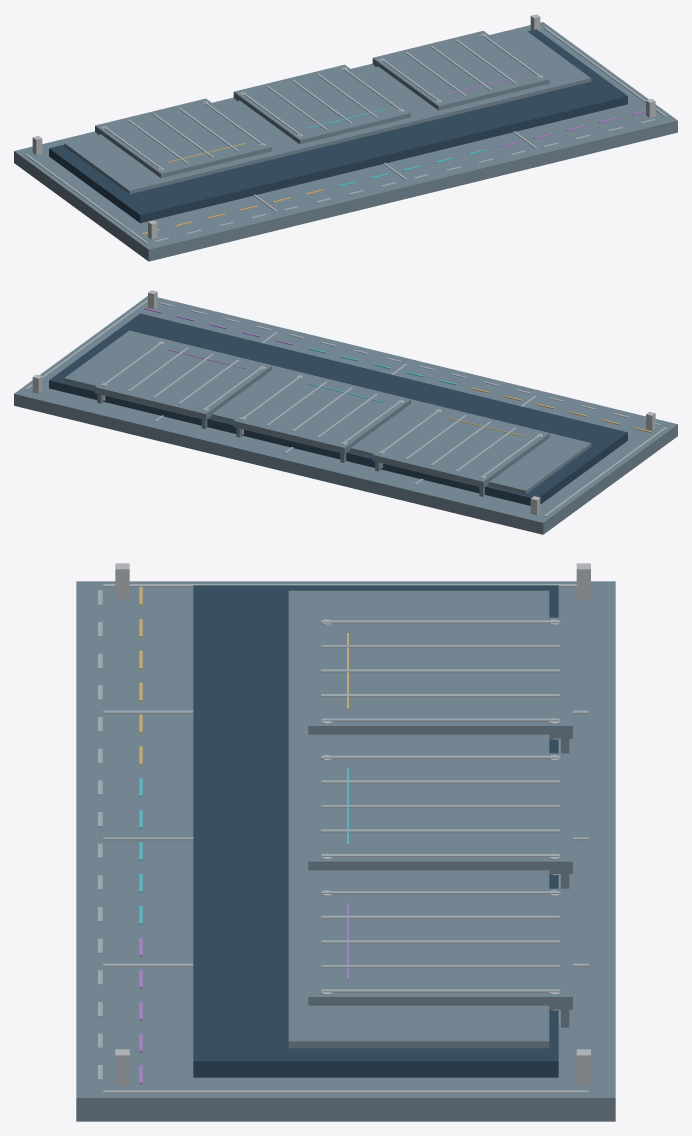
The model's file is 00_L77_IndustrialCopperPlanarizationBase.glb.
3 renders of one model, top to bottom at view 1: azimuth 30°, elevation 25°; view 2: azimuth 150°, elevation 25°; view 3: azimuth 270°, elevation 25°, orthographic. The views are drawn at different scales.
Visible parts, largest first — view 1: IndustrialCopperPlanarizationBase_Node_0000, IndustrialCopperPlanarizationBase_Node_0006, IndustrialCopperPlanarizationBase_Node_0007, IndustrialCopperPlanarizationBase_Node_0024, IndustrialCopperPlanarizationBase_Node_0040, IndustrialCopperPlanarizationBase_Node_0008, IndustrialCopperPlanarizationBase_Node_0001; view 2: IndustrialCopperPlanarizationBase_Node_0000, IndustrialCopperPlanarizationBase_Node_0006, IndustrialCopperPlanarizationBase_Node_0007, IndustrialCopperPlanarizationBase_Node_0024, IndustrialCopperPlanarizationBase_Node_0008, IndustrialCopperPlanarizationBase_Node_0040, IndustrialCopperPlanarizationBase_Node_0001; view 3: IndustrialCopperPlanarizationBase_Node_0000, IndustrialCopperPlanarizationBase_Node_0006, IndustrialCopperPlanarizationBase_Node_0007, IndustrialCopperPlanarizationBase_Node_0040, IndustrialCopperPlanarizationBase_Node_0008, IndustrialCopperPlanarizationBase_Node_0024, IndustrialCopperPlanarizationBase_Node_0005, IndustrialCopperPlanarizationBase_Node_0042, IndustrialCopperPlanarizationBase_Node_0025, IndustrialCopperPlanarizationBase_Node_0001, IndustrialCopperPlanarizationBase_Node_0009, IndustrialCopperPlanarizationBase_Node_0013 (+11 smaller).
Part boxes in pixels (left/top/right/bottom): IndustrialCopperPlanarizationBase_Node_0000: left=14, top=22, right=677, bottom=261; IndustrialCopperPlanarizationBase_Node_0006: left=49, top=29, right=627, bottom=223; IndustrialCopperPlanarizationBase_Node_0007: left=64, top=30, right=591, bottom=194; IndustrialCopperPlanarizationBase_Node_0024: left=233, top=64, right=410, bottom=144; IndustrialCopperPlanarizationBase_Node_0040: left=372, top=31, right=549, bottom=110; IndustrialCopperPlanarizationBase_Node_0008: left=95, top=98, right=271, bottom=178; IndustrialCopperPlanarizationBase_Node_0001: left=25, top=154, right=147, bottom=243; IndustrialCopperPlanarizationBase_Node_0000: left=14, top=296, right=677, bottom=534; IndustrialCopperPlanarizationBase_Node_0006: left=49, top=313, right=627, bottom=505; IndustrialCopperPlanarizationBase_Node_0007: left=64, top=330, right=591, bottom=494; IndustrialCopperPlanarizationBase_Node_0024: left=233, top=372, right=410, bottom=454; IndustrialCopperPlanarizationBase_Node_0008: left=372, top=406, right=549, bottom=487; IndustrialCopperPlanarizationBase_Node_0040: left=95, top=338, right=271, bottom=420; IndustrialCopperPlanarizationBase_Node_0001: left=543, top=427, right=666, bottom=516; IndustrialCopperPlanarizationBase_Node_0000: left=76, top=581, right=615, bottom=1121; IndustrialCopperPlanarizationBase_Node_0006: left=193, top=585, right=558, bottom=1077; IndustrialCopperPlanarizationBase_Node_0007: left=288, top=590, right=549, bottom=1048; IndustrialCopperPlanarizationBase_Node_0040: left=308, top=888, right=572, bottom=1009; IndustrialCopperPlanarizationBase_Node_0008: left=308, top=617, right=572, bottom=738; IndustrialCopperPlanarizationBase_Node_0024: left=308, top=753, right=572, bottom=873; IndustrialCopperPlanarizationBase_Node_0005: left=103, top=1090, right=588, bottom=1093; IndustrialCopperPlanarizationBase_Node_0042: left=321, top=915, right=559, bottom=919; IndustrialCopperPlanarizationBase_Node_0025: left=321, top=755, right=559, bottom=759; IndustrialCopperPlanarizationBase_Node_0001: left=103, top=584, right=576, bottom=587; IndustrialCopperPlanarizationBase_Node_0009: left=321, top=620, right=559, bottom=623; IndustrialCopperPlanarizationBase_Node_0013: left=321, top=718, right=559, bottom=721.
Bounding box in the file's own units: 20.4 × 1.08 × 9.
